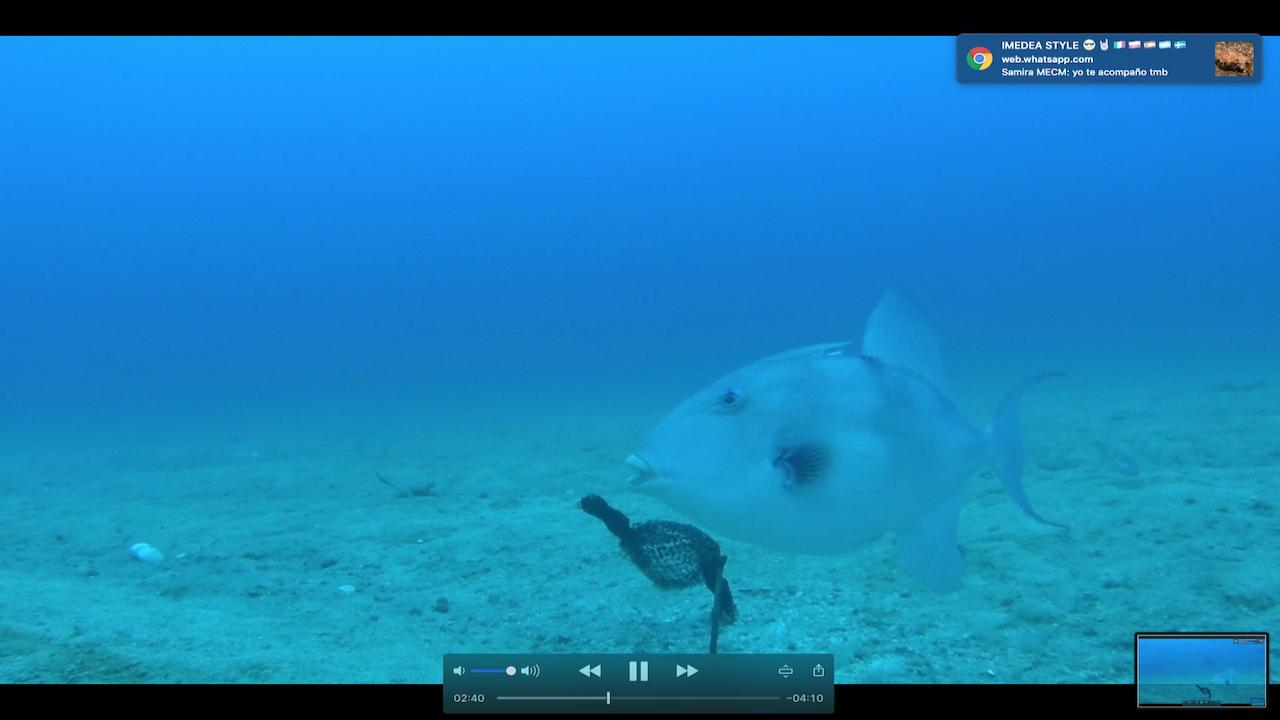balistes: (623, 276, 1069, 596)
raor: (1091, 428, 1142, 480)
